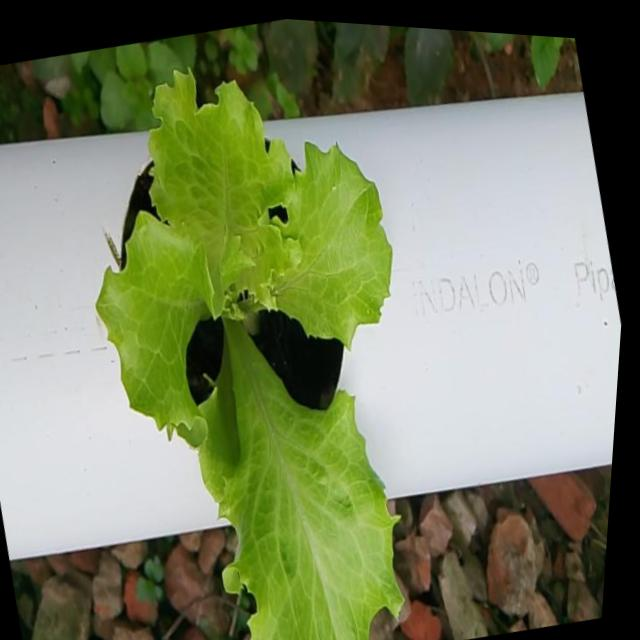Baby: (109, 70, 415, 640)
